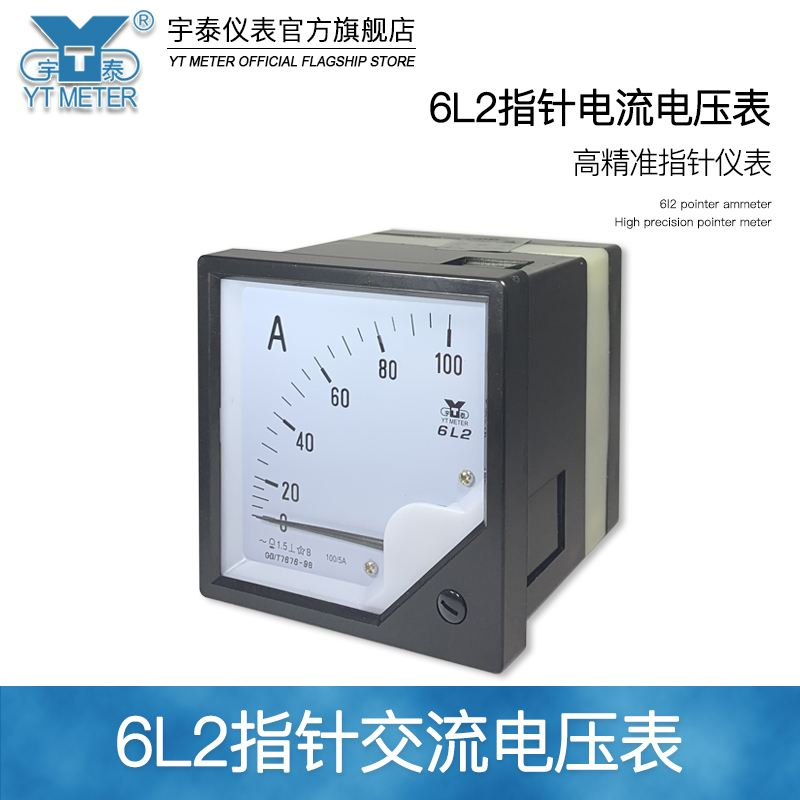pointer: (216, 271, 487, 613)
